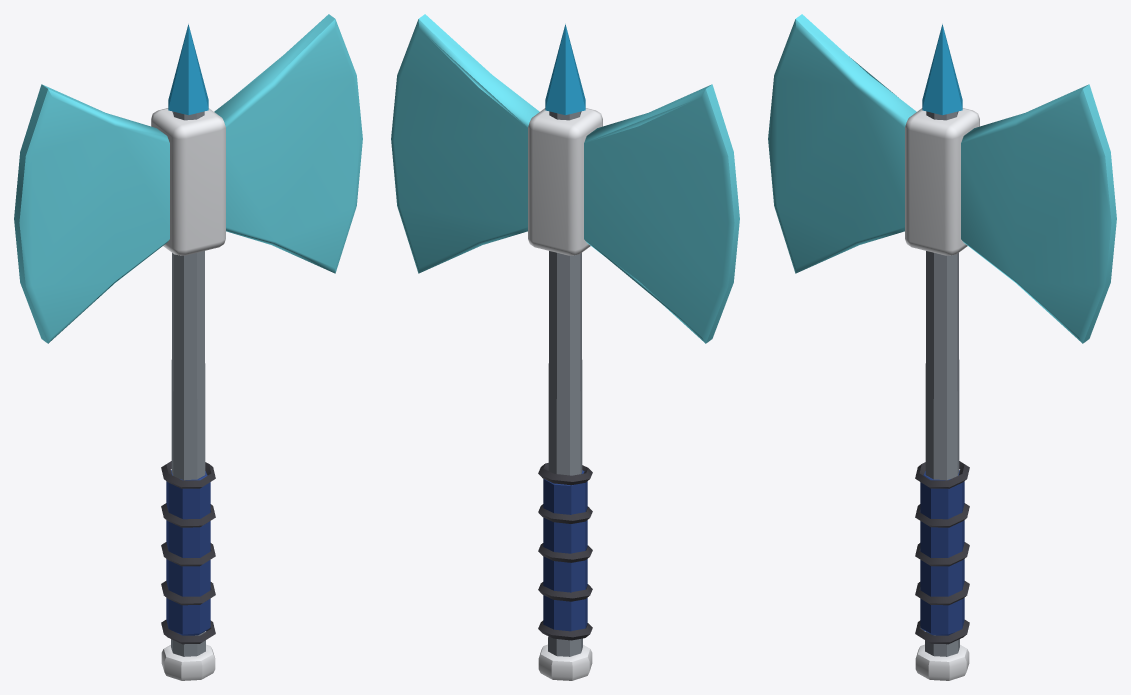
The model's file is DiamondBattleAxe.fbx.
3 views of the same model, side by side, from view 1: azimuth 30°, elevation 25°; view 2: azimuth 150°, elevation 25°; view 3: azimuth 330°, elevation 25° (orthographic).
Parts seen in each view (by area): view 1: DiamondBattleAxe; view 2: DiamondBattleAxe; view 3: DiamondBattleAxe.
Boxes of the visible parts, left/top/right/bottom form: DiamondBattleAxe: left=14, top=14, right=362, bottom=680; DiamondBattleAxe: left=391, top=14, right=739, bottom=680; DiamondBattleAxe: left=768, top=14, right=1116, bottom=680.
Bounding box in the file's own units: 2.2 × 3.97 × 0.34.
1 material, 1 textured.
